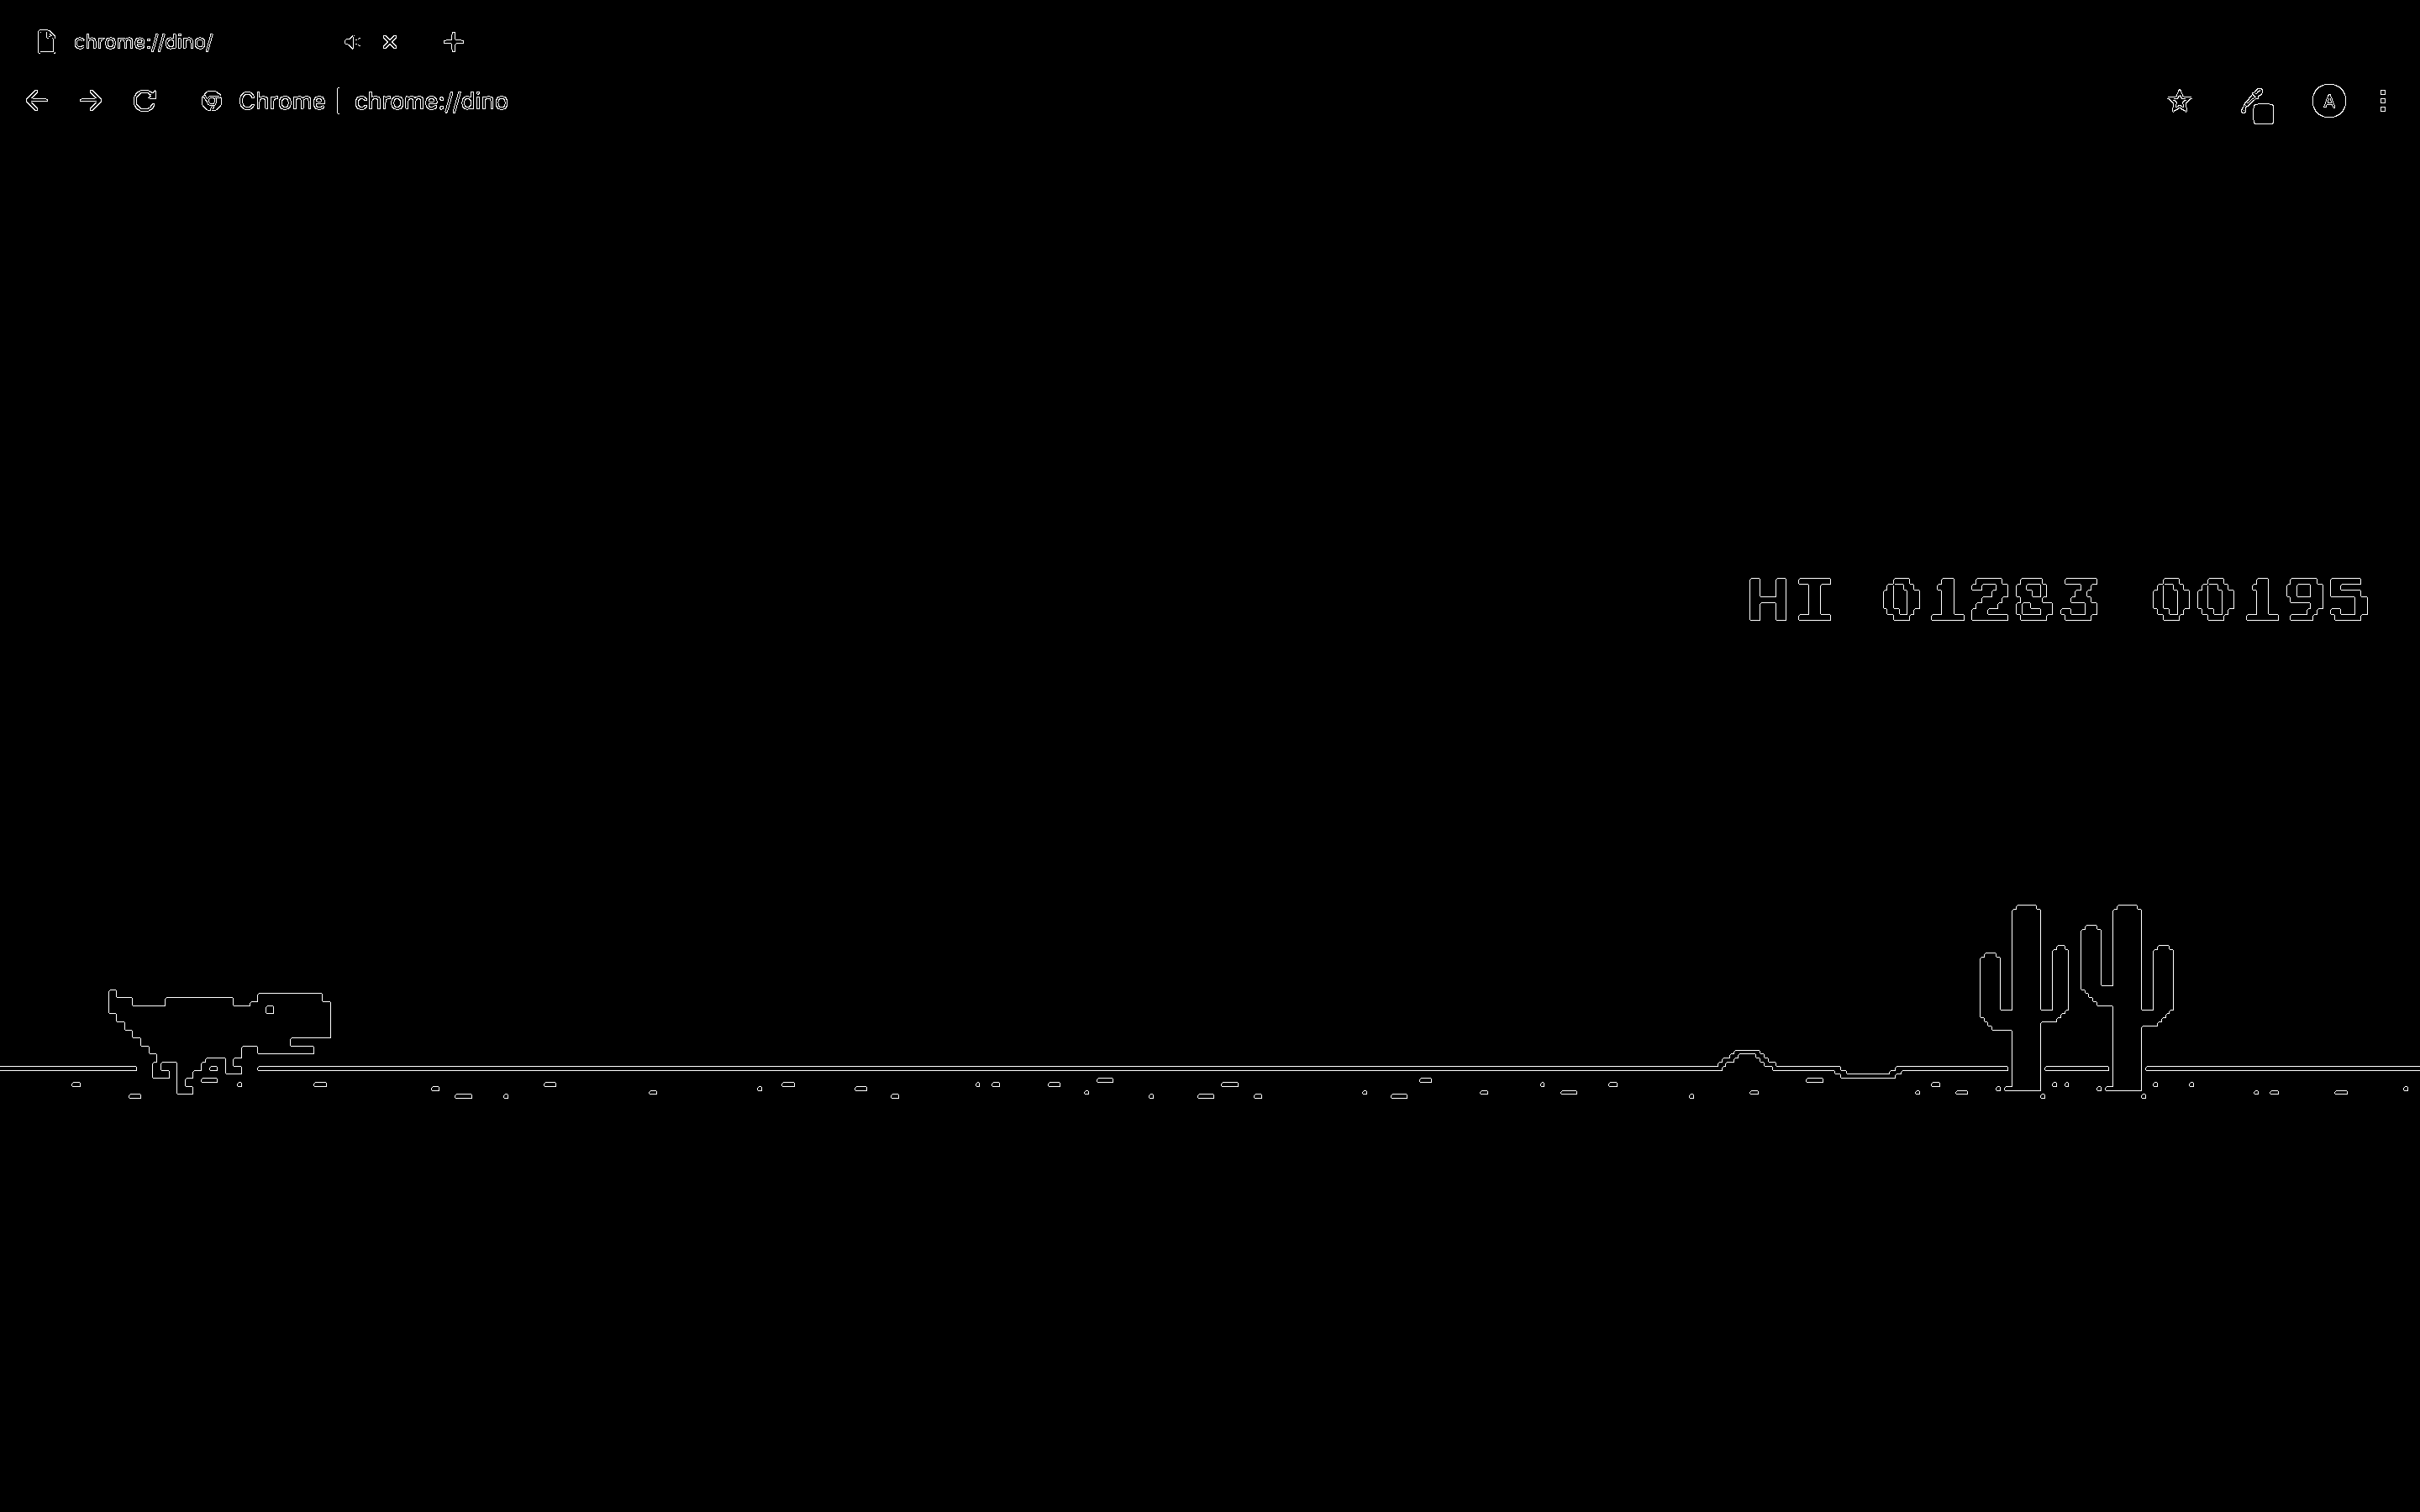Cactus: (1976, 909, 2075, 1097), (2084, 906, 2181, 1092)
Dino: (103, 984, 336, 1096)
